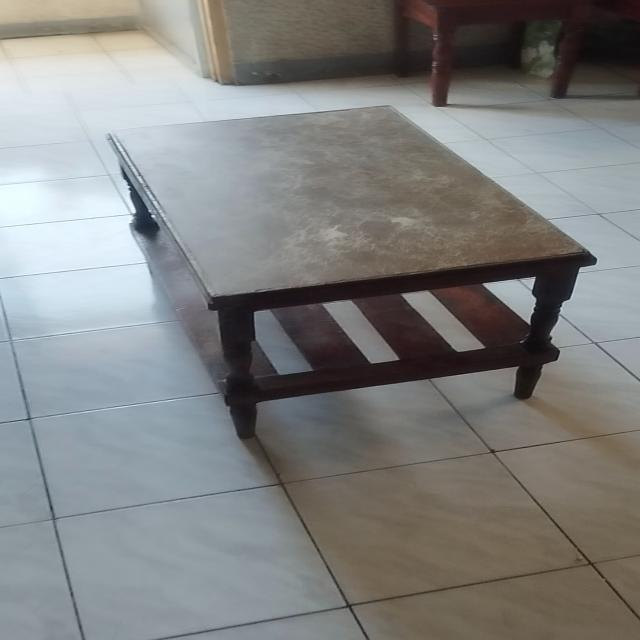table: (97, 101, 601, 441)
